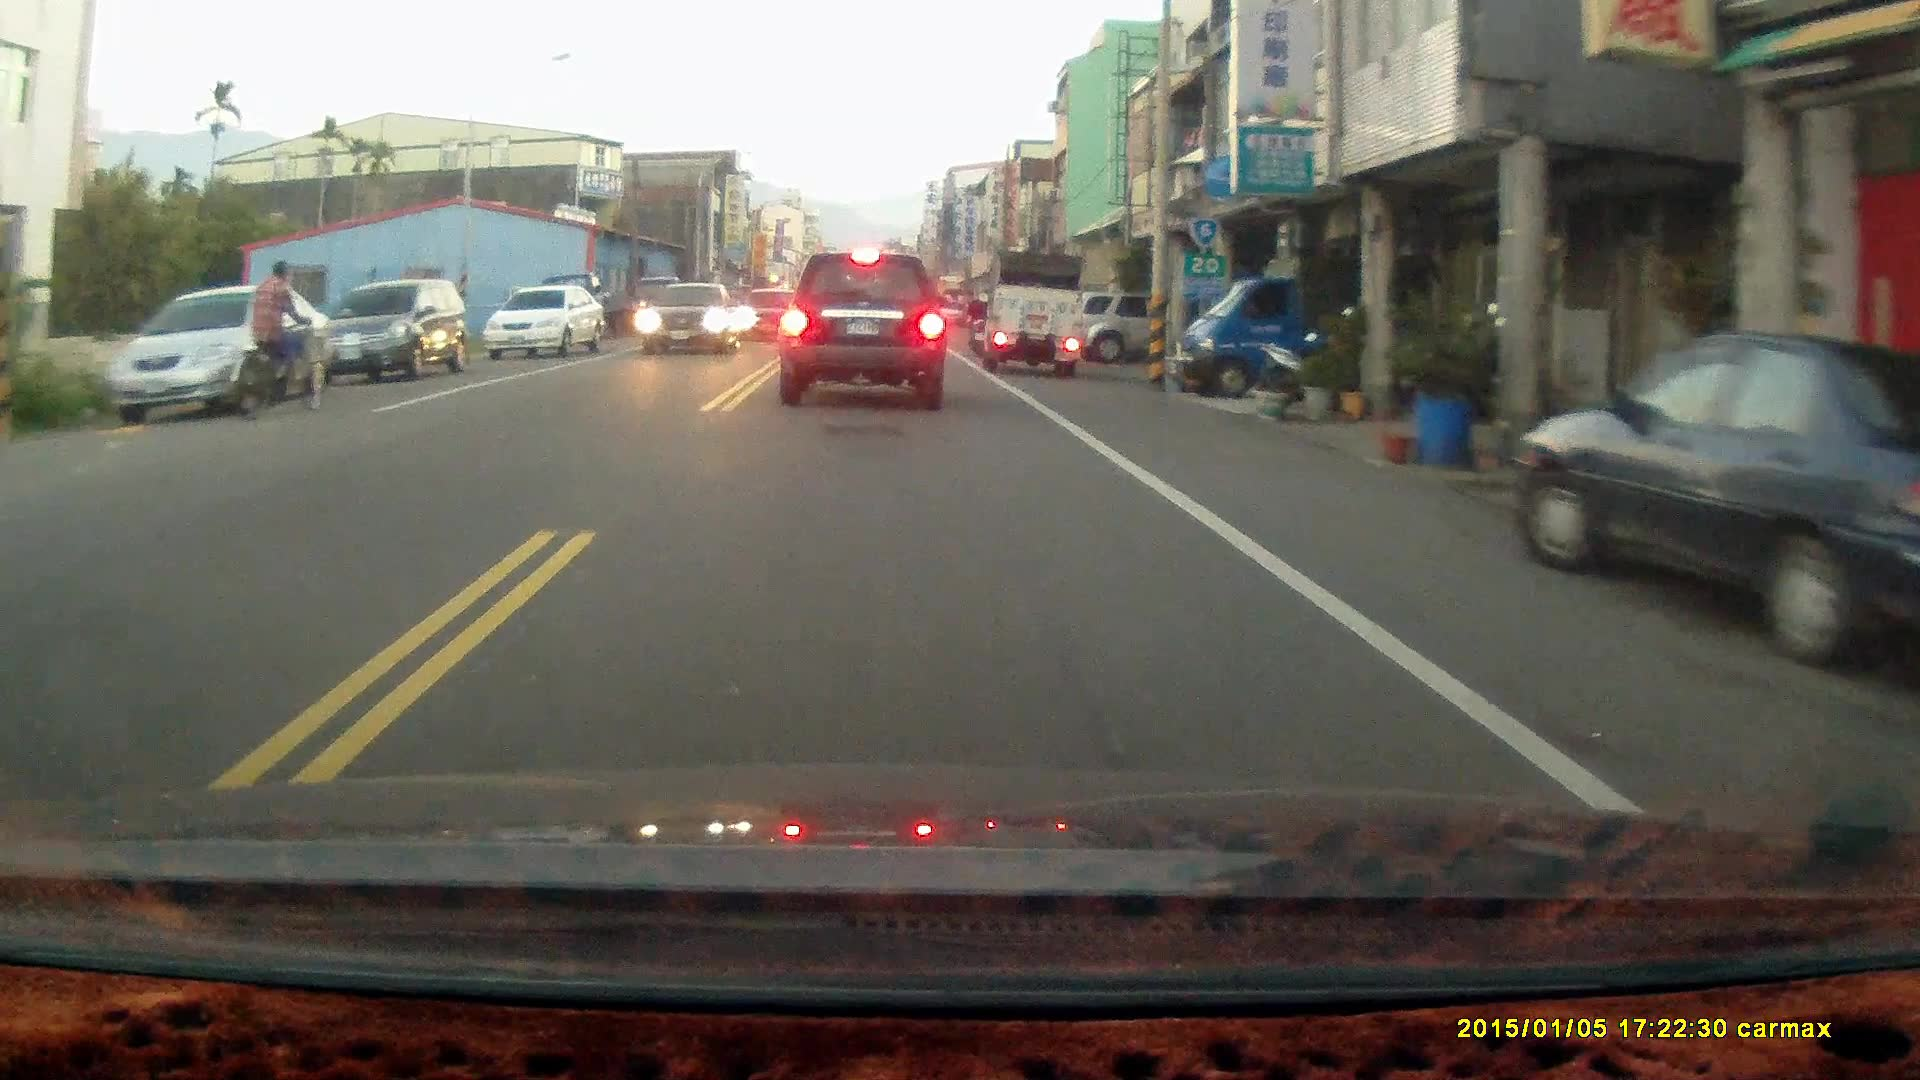rider: (226, 256, 327, 417), (963, 289, 991, 354)
vehicle: (1512, 330, 1920, 672), (98, 292, 323, 431), (1177, 241, 1363, 402), (779, 250, 949, 410), (311, 280, 477, 390), (984, 254, 1086, 379), (486, 287, 611, 365), (646, 284, 741, 357)
